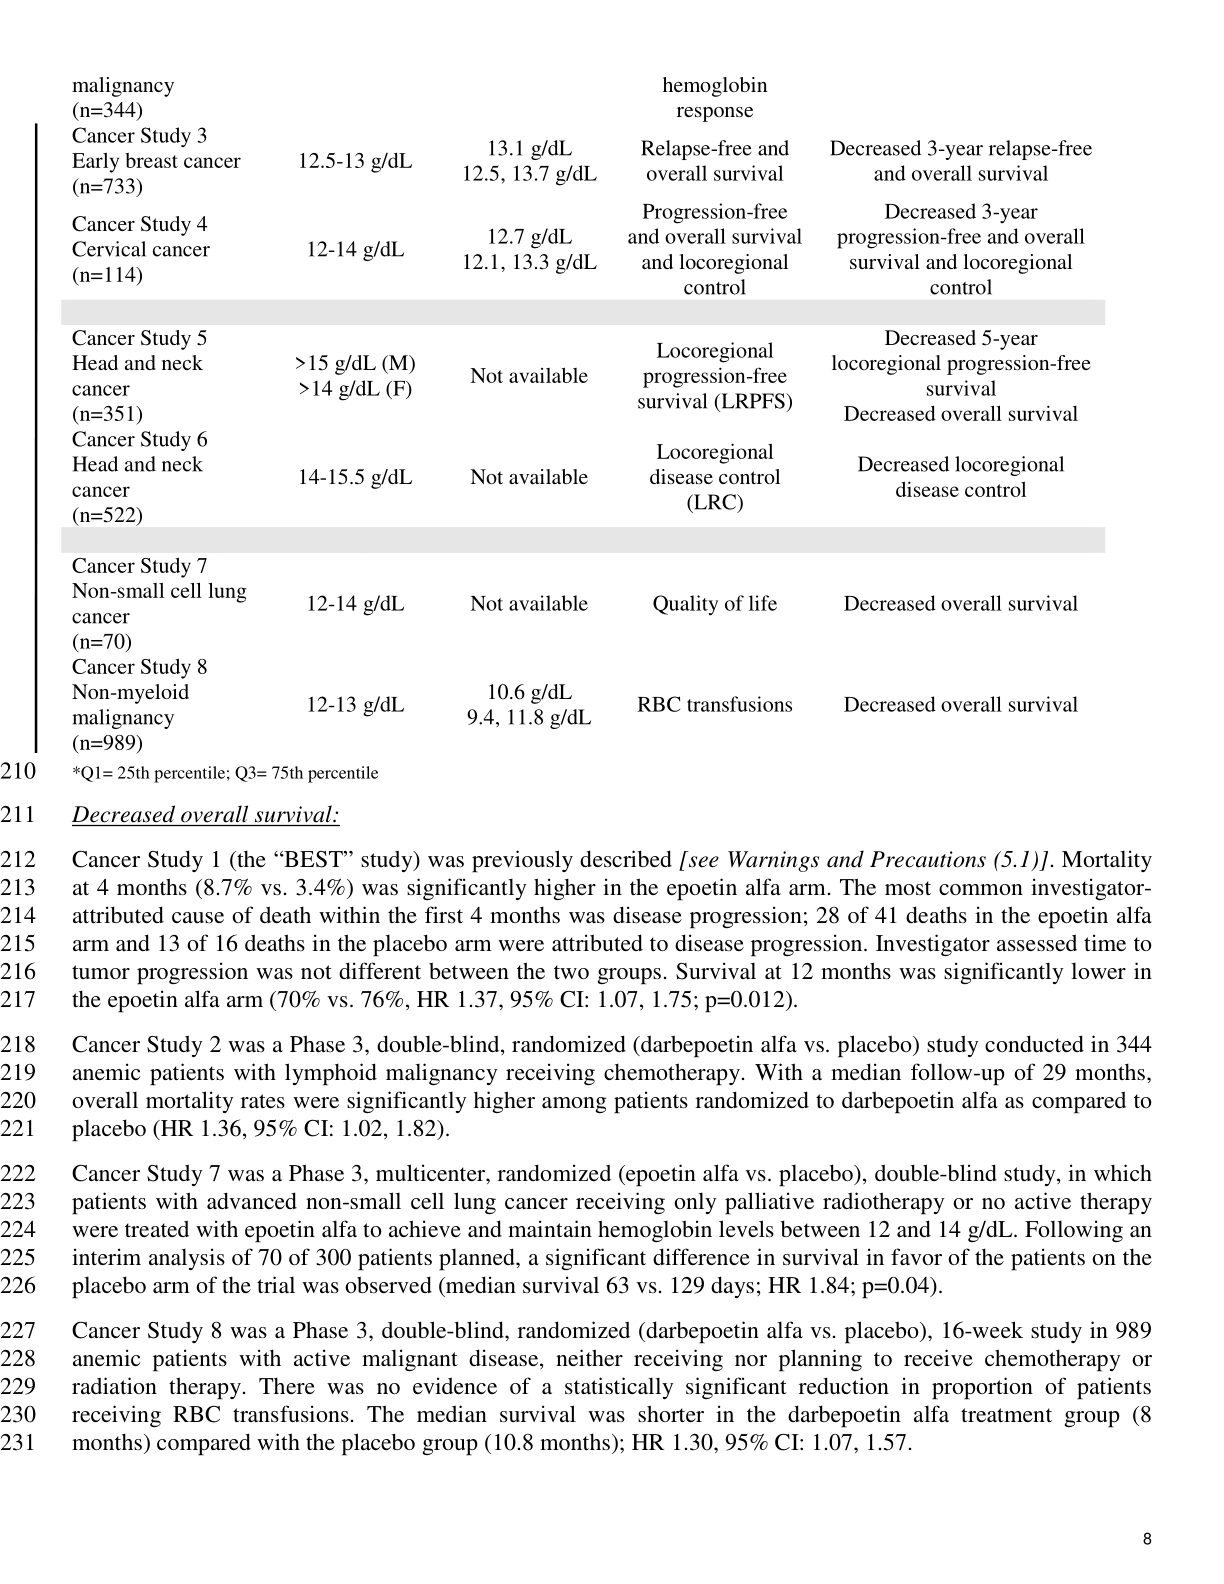nolines: (62, 71, 1101, 761)
